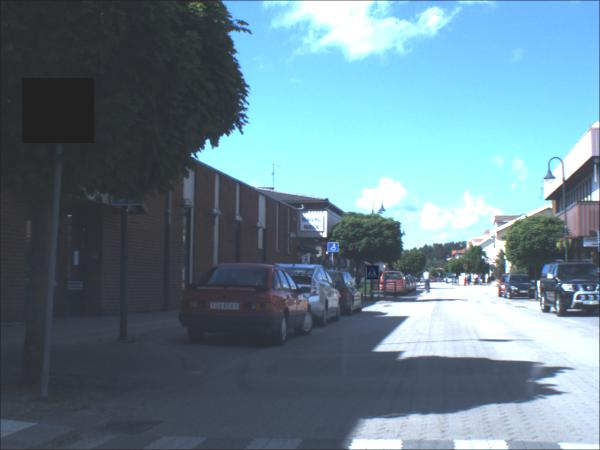30_SIGN: (22, 79, 95, 145)
PEDESTRIAN_CROSSING: (367, 267, 379, 281)
